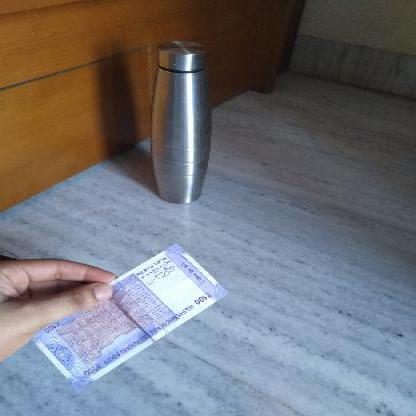New100Back: (30, 244, 229, 382)
